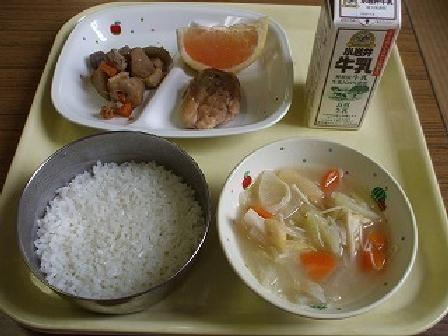Citrus: (163, 10, 280, 80)
Meat: (179, 70, 248, 143)
Milk: (290, 2, 405, 135)
Rice: (15, 139, 207, 312)
Soups: (228, 145, 407, 308)
cooked food meat with vegetables: (83, 36, 178, 113)
